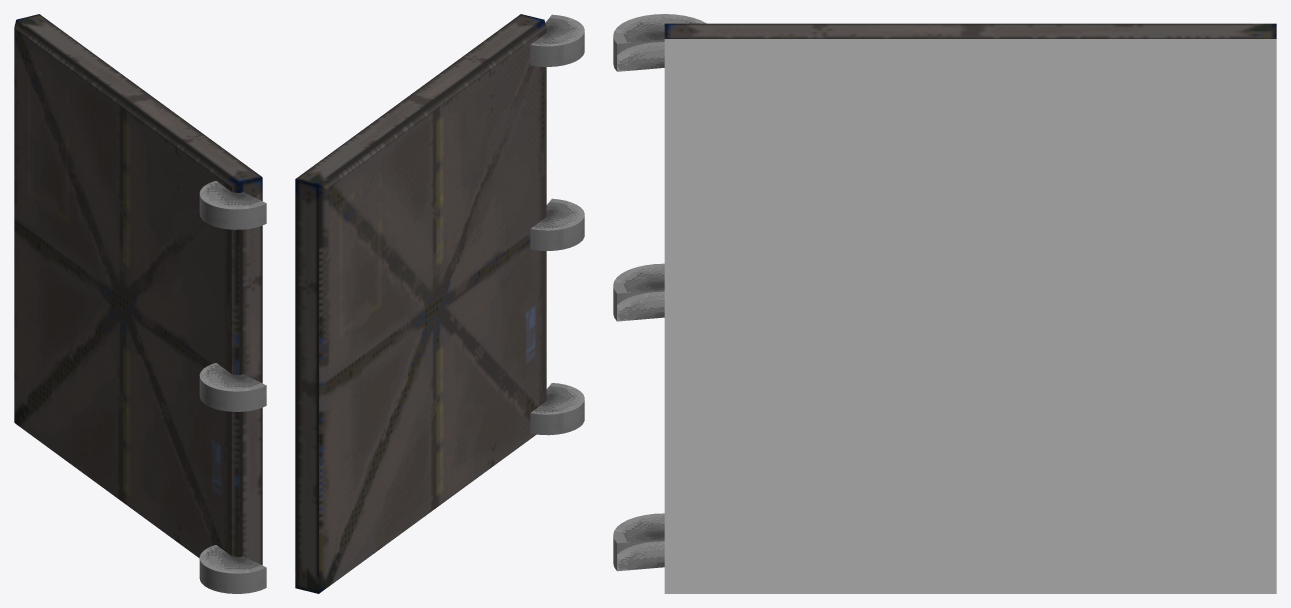
Rendered from rotating_panel.fbx.
The picture shows the model from 3 angles, left to right: view 1: azimuth 30°, elevation 25°; view 2: azimuth 150°, elevation 25°; view 3: azimuth 270°, elevation 25°; orthographic projection. The views are drawn at different scales.
Parts seen in each view (by area): view 1: RotatingPanel; view 2: RotatingPanel; view 3: RotatingPanel.
Part boxes in pixels (x1,y1,x2,y2): RotatingPanel: (14, 14, 266, 593); RotatingPanel: (295, 14, 584, 593); RotatingPanel: (613, 14, 1276, 593).
Bounding box in the file's own units: 30.07 × 200 × 217.
